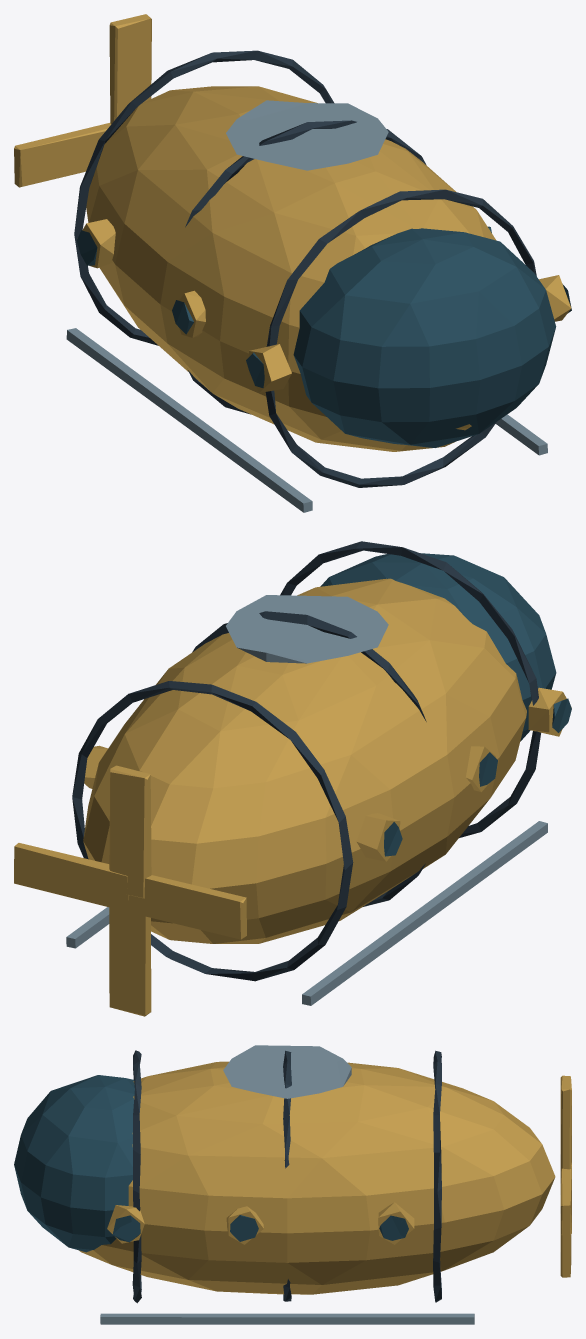
The model's file is submarines-research-sub.lod1.glb.
3 views of the same model, one above another, from view 1: azimuth 30°, elevation 25°; view 2: azimuth 150°, elevation 25°; view 3: azimuth 270°, elevation 25° (orthographic). The views are drawn at different scales.
Visible parts, largest first — view 1: submarines-research-sub__body, submarines-research-sub__hatch, submarines-research-sub__propeller; view 2: submarines-research-sub__body, submarines-research-sub__propeller, submarines-research-sub__hatch; view 3: submarines-research-sub__body, submarines-research-sub__hatch, submarines-research-sub__propeller.
Boxes of the visible parts, x1,y1,x2,y2 form: submarines-research-sub__body: [66, 50, 571, 512]; submarines-research-sub__hatch: [226, 100, 388, 170]; submarines-research-sub__propeller: [14, 14, 151, 187]; submarines-research-sub__body: [66, 541, 571, 1005]; submarines-research-sub__propeller: [14, 765, 246, 1016]; submarines-research-sub__hatch: [226, 595, 388, 663]; submarines-research-sub__body: [14, 1050, 555, 1324]; submarines-research-sub__hatch: [223, 1045, 351, 1098]; submarines-research-sub__propeller: [560, 1075, 571, 1277].
Bounding box in the file's own units: 2.94 × 2.67 × 5.83.
